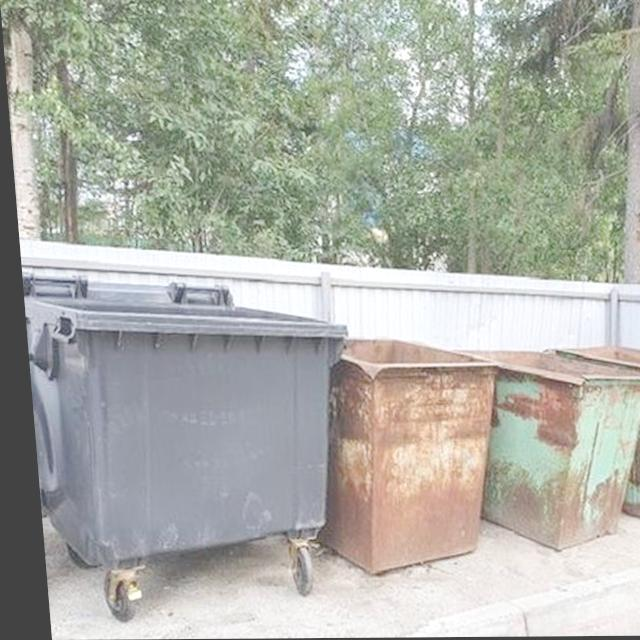Trash_Can_Empty: (19, 295, 359, 563), (313, 341, 490, 574), (448, 351, 640, 550), (615, 398, 640, 522)
